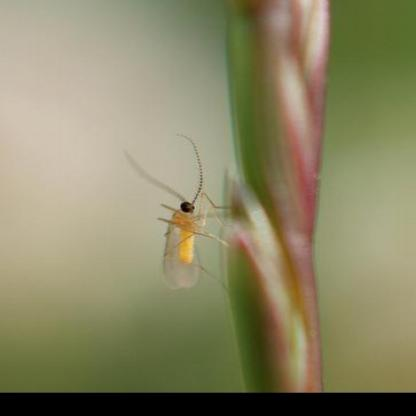aphid: (134, 155, 239, 290)
